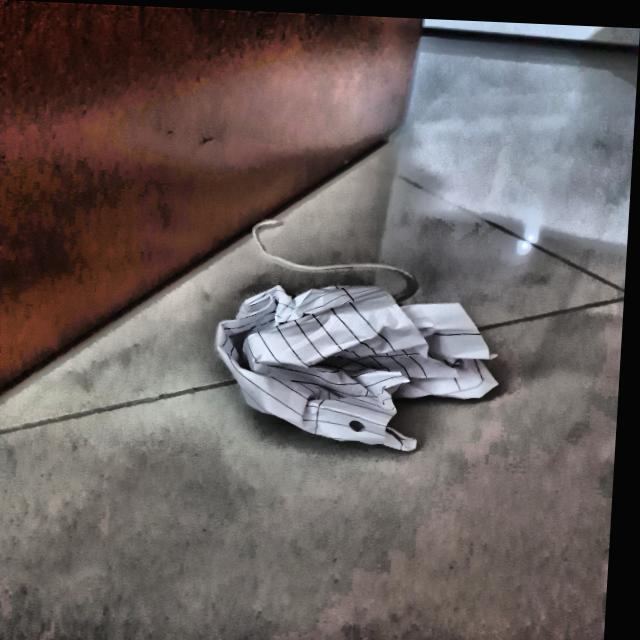Paper: (207, 256, 505, 449)
